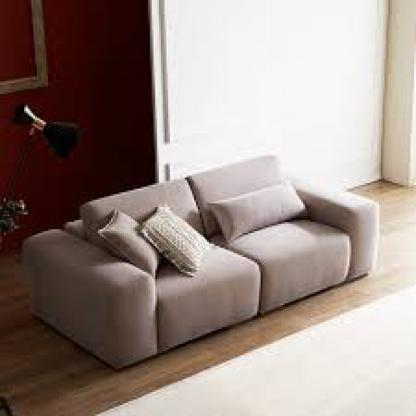sofa: (31, 166, 394, 362)
